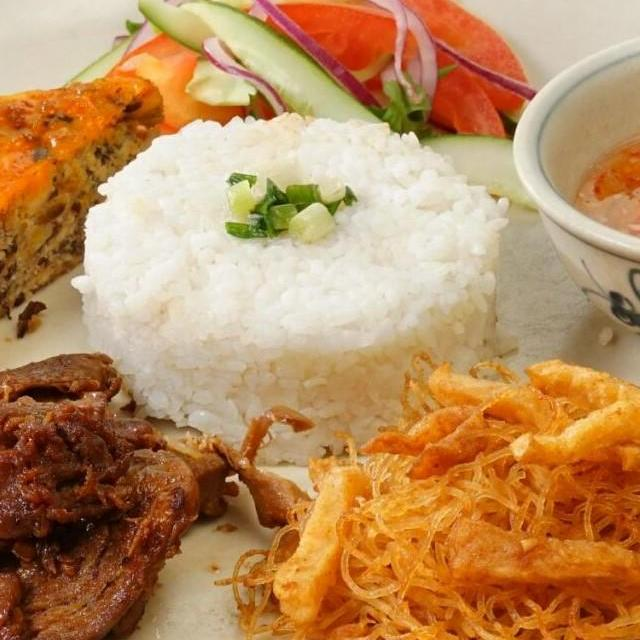bi: (189, 351, 640, 640)
cha: (0, 67, 168, 437)
com: (66, 104, 516, 470)
com suon bi cha: (0, 0, 640, 640)
suon: (0, 320, 245, 640)
